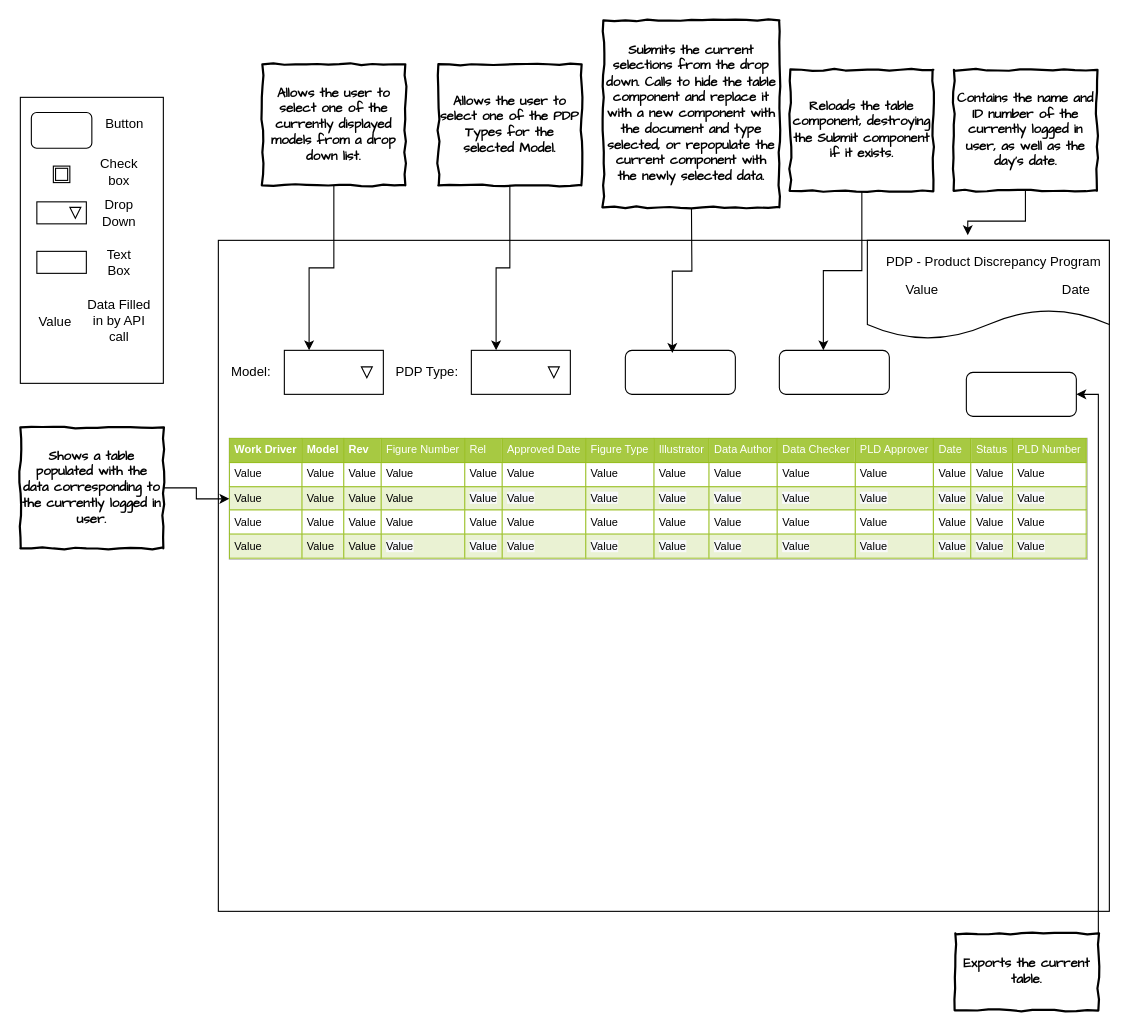
This 1129x1030 diagram has some shape labels left out. Here are the shapes that lost their labels. From the top down, the centre of each, then its label:
At pixel 679 371: "Submit".
At pixel 833 371: "Home".
At pixel 1020 393: "Export".
